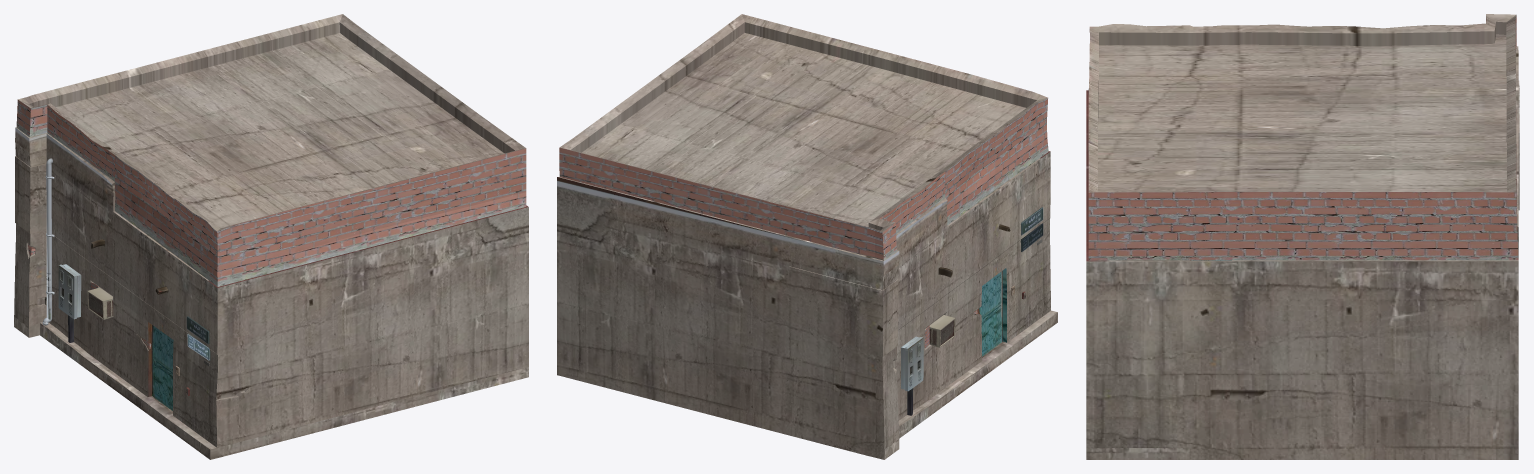
Rendered from h_arab1.glb.
3 views of the same model, side by side, from view 1: azimuth 30°, elevation 25°; view 2: azimuth 150°, elevation 25°; view 3: azimuth 270°, elevation 25° (orthographic). The views are drawn at different scales.
Parts seen in each view (by area): view 1: Cube.013_wall.002_0, Cube.013_brick_0, Cube.013_DOOR.002_0, Cube.008_KHRBA_0, Cube.063_Material.002_0, Cube.009_mkyf 2_0, Cube.011_lw7h_0; view 2: Cube.013_wall.002_0, Cube.013_brick_0, Cube.013_DOOR.002_0, Cube.008_KHRBA_0, Cube.009_mkyf 2_0, Cube.011_lw7h_0; view 3: Cube.013_wall.002_0, Cube.013_brick_0.
Part boxes in pixels (x1=…): Cube.013_wall.002_0: x1=14, y1=14, x2=528, y2=459; Cube.013_brick_0: x1=16, y1=99, x2=526, y2=349; Cube.013_DOOR.002_0: x1=147, y1=322, x2=173, y2=410; Cube.008_KHRBA_0: x1=58, y1=264, x2=81, y2=342; Cube.063_Material.002_0: x1=42, y1=158, x2=54, y2=325; Cube.009_mkyf 2_0: x1=87, y1=287, x2=113, y2=319; Cube.011_lw7h_0: x1=186, y1=316, x2=210, y2=360; Cube.013_wall.002_0: x1=557, y1=14, x2=1057, y2=459; Cube.013_brick_0: x1=559, y1=98, x2=1048, y2=347; Cube.013_DOOR.002_0: x1=977, y1=268, x2=1006, y2=356; Cube.008_KHRBA_0: x1=901, y1=336, x2=923, y2=415; Cube.009_mkyf 2_0: x1=929, y1=315, x2=955, y2=347; Cube.011_lw7h_0: x1=1020, y1=207, x2=1043, y2=251; Cube.013_wall.002_0: x1=1086, y1=14, x2=1519, y2=459; Cube.013_brick_0: x1=1088, y1=15, x2=1518, y2=260.
Bounding box in the file's own units: 9.56 × 6.48 × 9.34.
10 materials, 9 textured.
